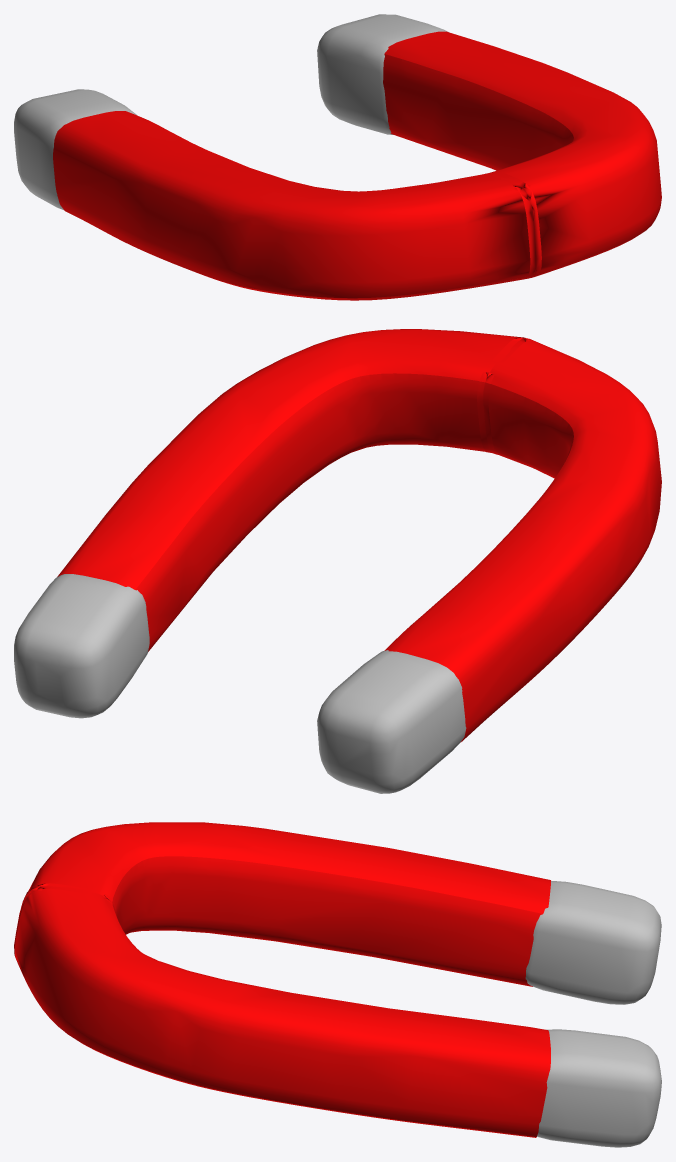
The model's file is magnet_01.fbx.
3 views of the same model, one above another, from view 1: azimuth 30°, elevation 25°; view 2: azimuth 150°, elevation 25°; view 3: azimuth 270°, elevation 25° (orthographic). The views are drawn at different scales.
Visible parts, largest first — view 1: Object002; view 2: Object002; view 3: Object002.
Part boxes in pixels (left/top/right/bottom): Object002: left=14, top=14, right=661, bottom=300; Object002: left=14, top=329, right=661, bottom=793; Object002: left=14, top=822, right=661, bottom=1147.
Bounding box in the file's own units: 96.99 × 39.97 × 132.
